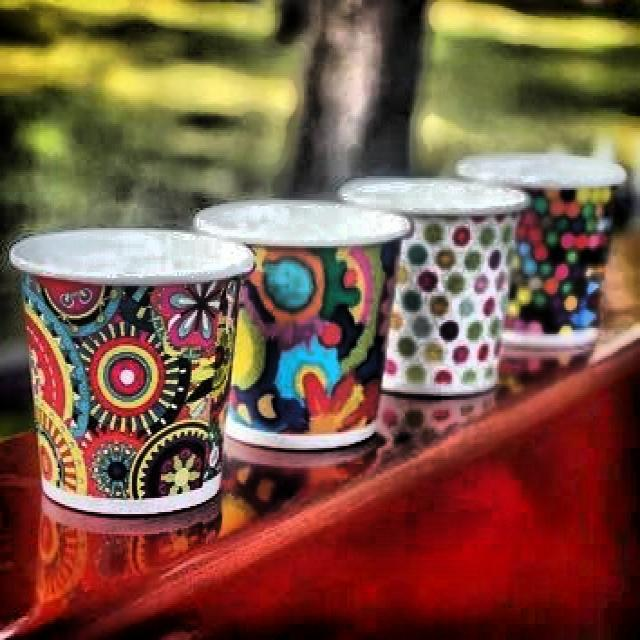Cup: (7, 218, 254, 526), (187, 174, 406, 446), (352, 151, 517, 412), (444, 130, 633, 351)
